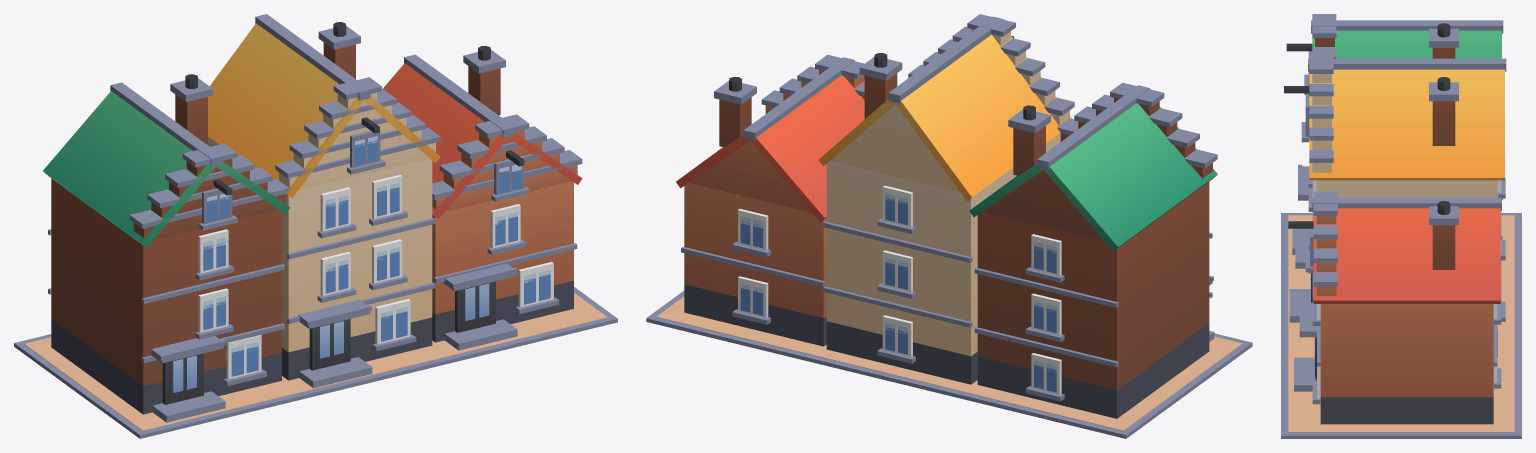
File: res_dutch_row_2x1.glb
3 renders of one model, left to right at view 1: azimuth 30°, elevation 25°; view 2: azimuth 150°, elevation 25°; view 3: azimuth 270°, elevation 25°, orthographic. The views are drawn at different scales.
Visible parts, largest first — view 1: res_dutch_row_2x1; view 2: res_dutch_row_2x1; view 3: res_dutch_row_2x1.
Part boxes in pixels (x1,y1,x2,y2): res_dutch_row_2x1: [14, 14, 617, 438]; res_dutch_row_2x1: [646, 14, 1252, 438]; res_dutch_row_2x1: [1281, 14, 1521, 438].
Bounding box in the file's own units: 3.72 × 2.1 × 1.7.
Materials: 1 (1 with a texture image).
